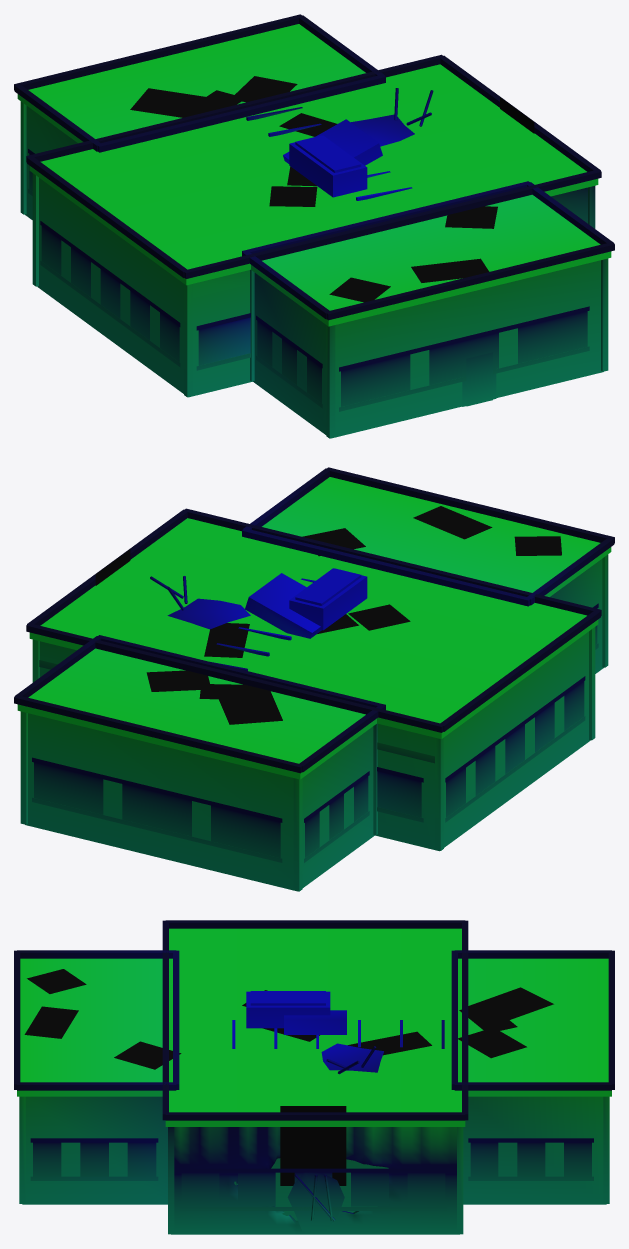
The model's file is s_admin_entry_damaged.glb.
3 views of the same model, one above another, from view 1: azimuth 30°, elevation 25°; view 2: azimuth 150°, elevation 25°; view 3: azimuth 270°, elevation 25° (orthographic). The views are drawn at different scales.
Visible parts, largest first — view 1: lod0; view 2: lod0; view 3: lod0.
Boxes of the visible parts, x1,y1,x2,y2 form: lod0: [14, 14, 614, 438]; lod0: [14, 467, 614, 891]; lod0: [14, 920, 614, 1234].
Size of what is drawn, in the model's own units: 22 by 7.79 by 28.7.
